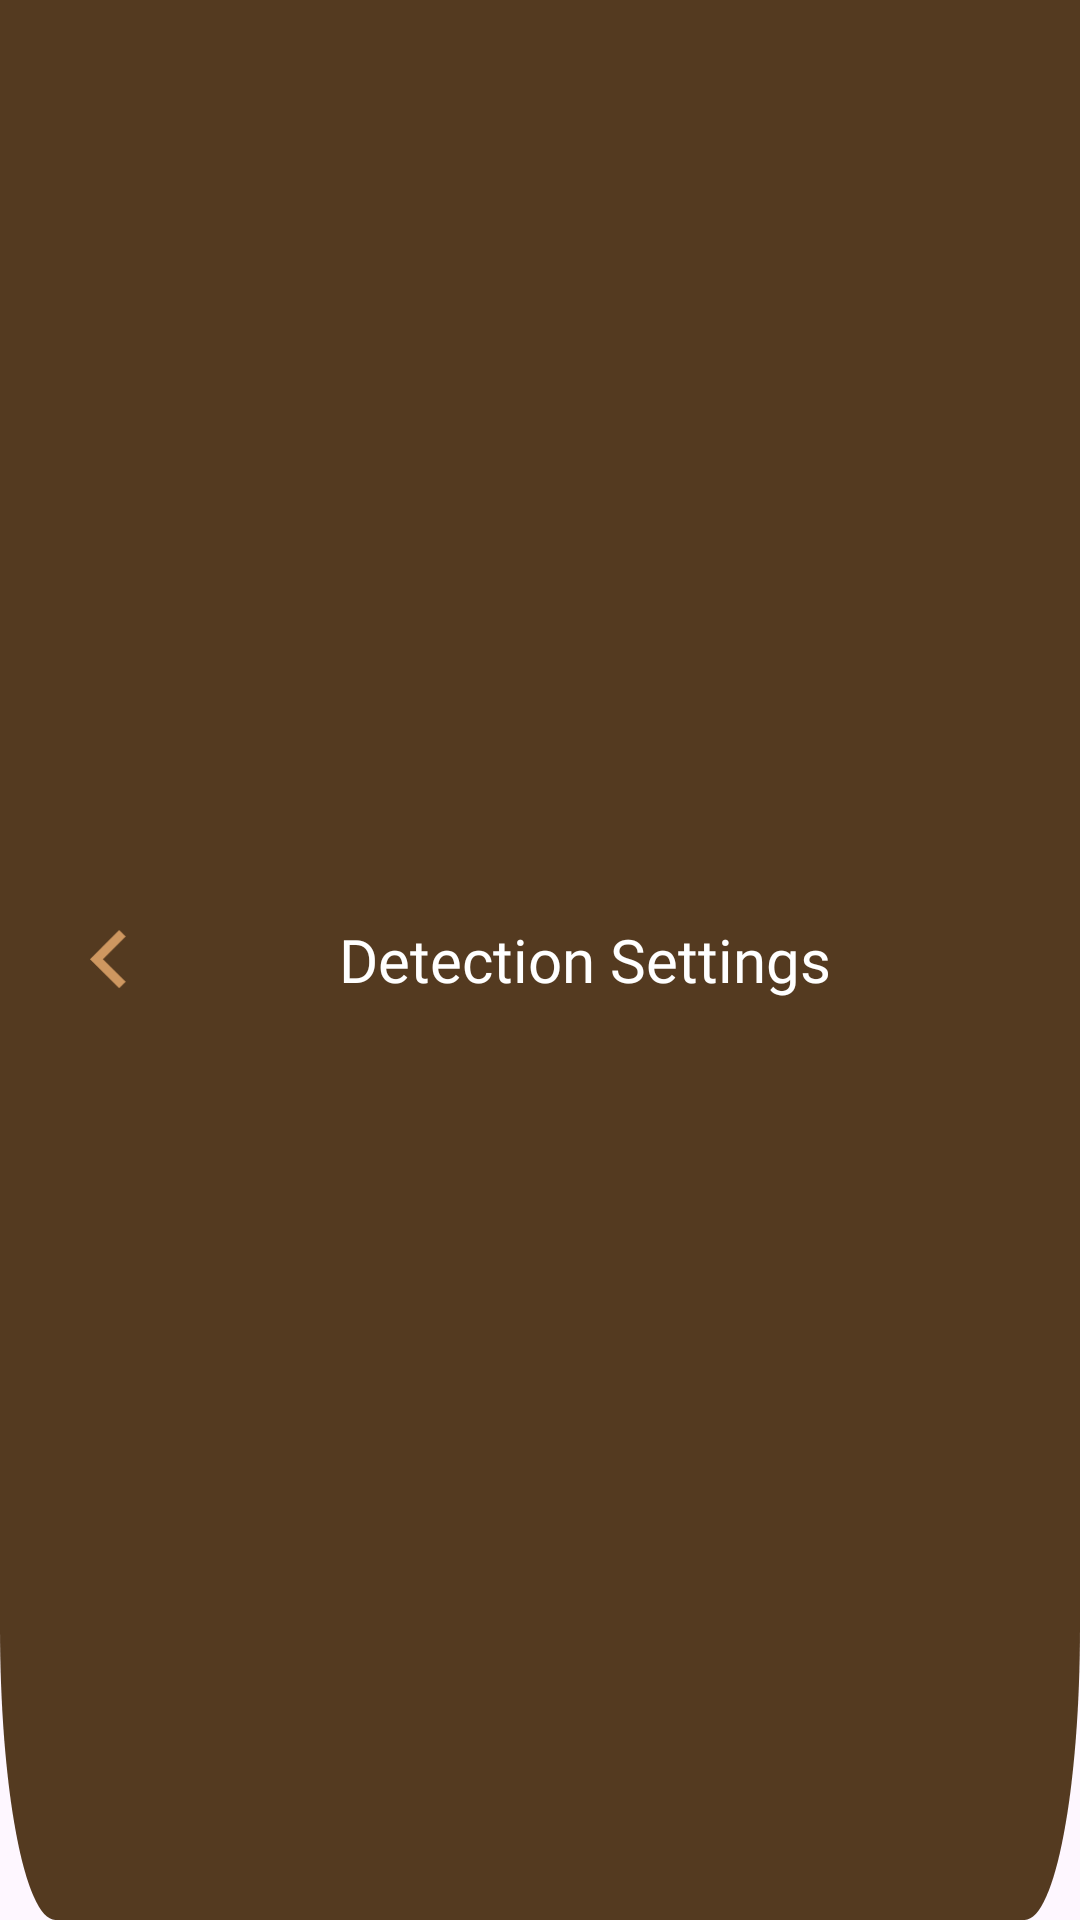

Icons on this 1080×1920 Android screen, each with its box as (x1=x1, y1=y1, x2=x2, y2=y2):
back: (x1=90, y1=930, x2=126, y2=988)
